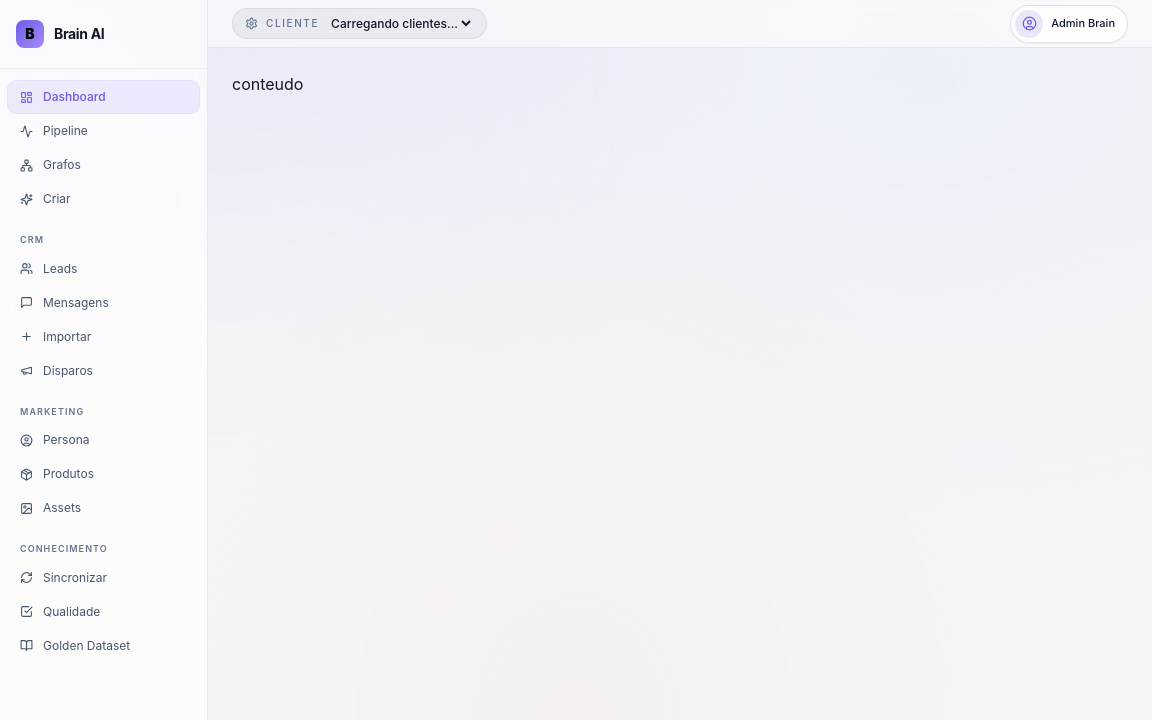
Test: AppShell session barrier › opens settings and logout from the user menu without legacy settings links
Click the button with aria-label "Abrir menu do usuario" at [1069, 24], box [1010,4,1128,42]
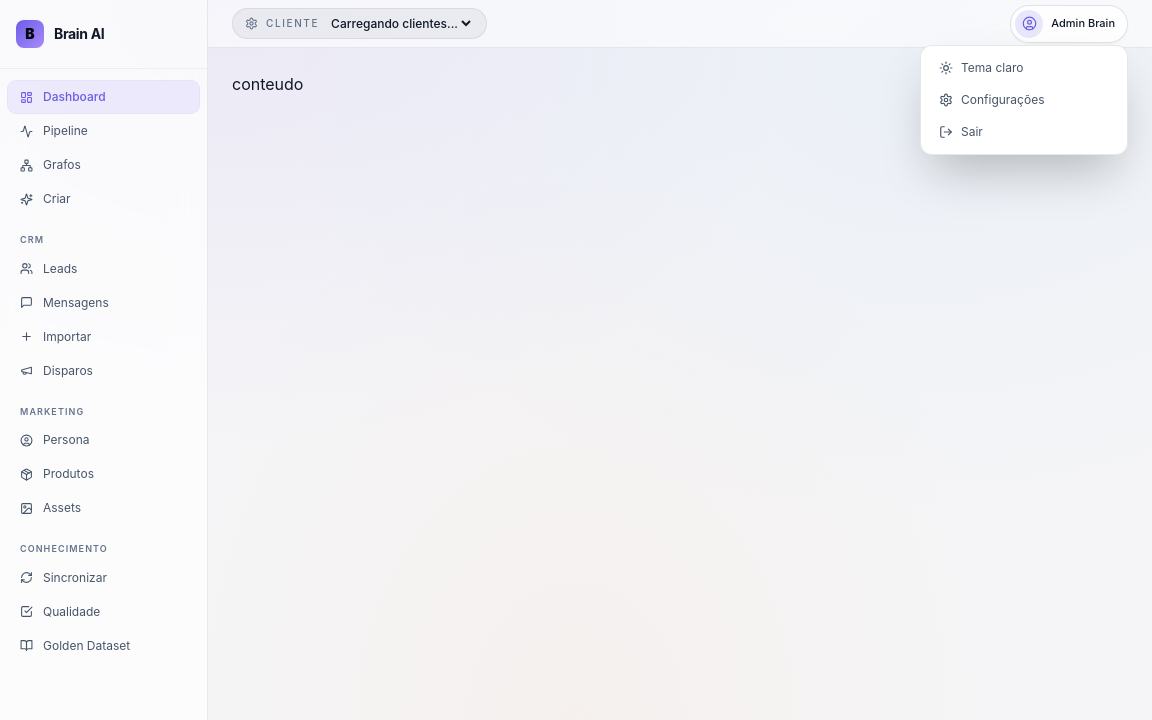
Result: the button "Sair" is shown at [927,116,1121,148]
